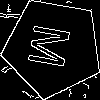M: (28, 23, 80, 71)
